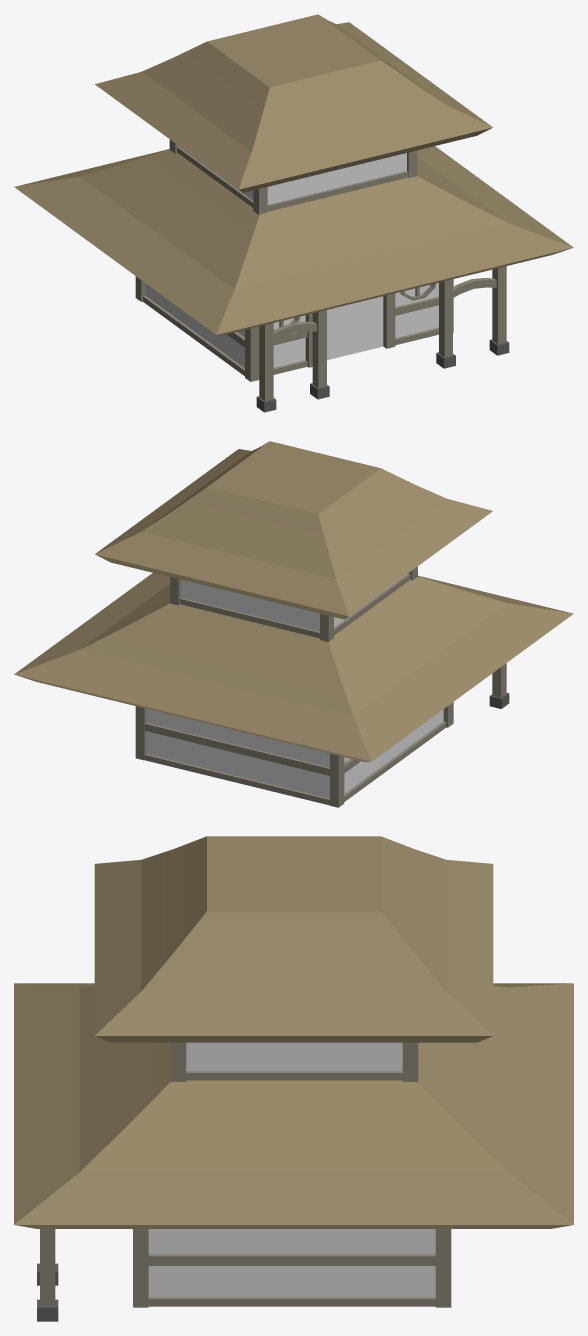
Rendered from house.fbx.
3 renders of one model, top to bottom at view 1: azimuth 30°, elevation 25°; view 2: azimuth 150°, elevation 25°; view 3: azimuth 270°, elevation 25°, orthographic. The views are drawn at different scales.
Visible parts, largest first — view 1: house_1; view 2: house_1; view 3: house_1.
Boxes of the visible parts, <box> form: house_1: <box>14,14,573,412</box>; house_1: <box>14,441,573,807</box>; house_1: <box>14,836,573,1321</box>.
Bounding box in the file's own units: 1473 × 1039 × 1443.
